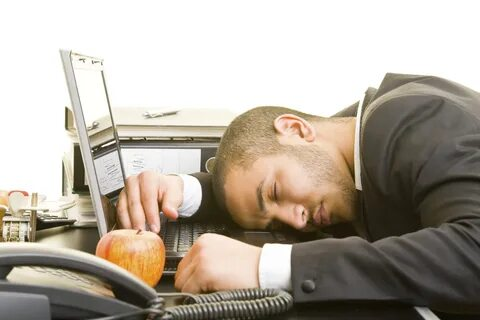sleep: (115, 74, 479, 302)
